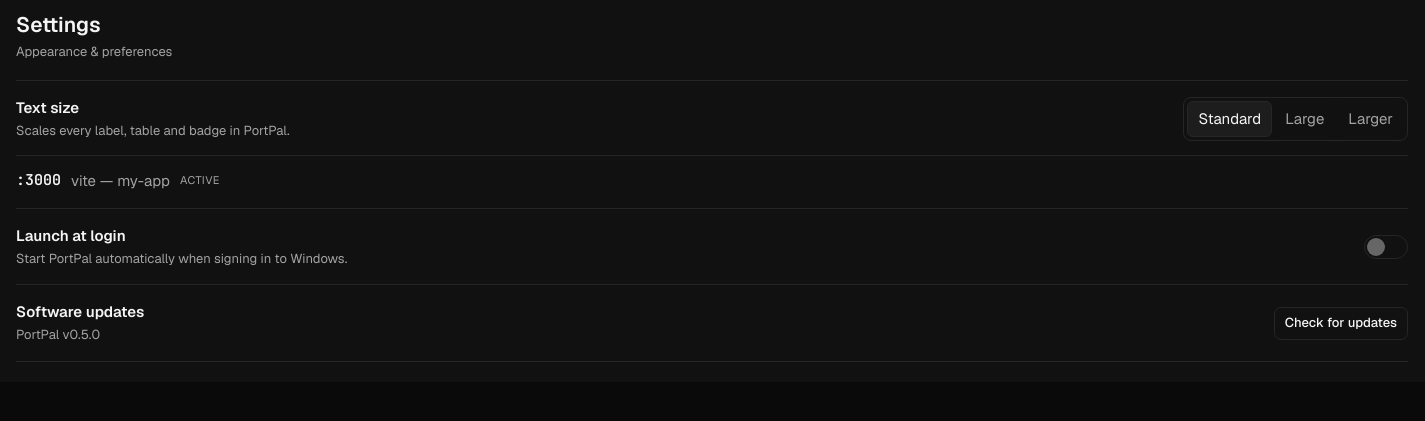
Test: secondary pages › checks for updates and reports when PortPal is up to date
This screenshot has width=1425, height=421.
Expected: the heading "Software updates" is shown, 16,301 -> 144,323
Expected: the text "PortPal v0.5.0" is shown, 16,326 -> 100,343
Click the button "Check for updates": [1341, 323] box 1274,307 -> 1408,340
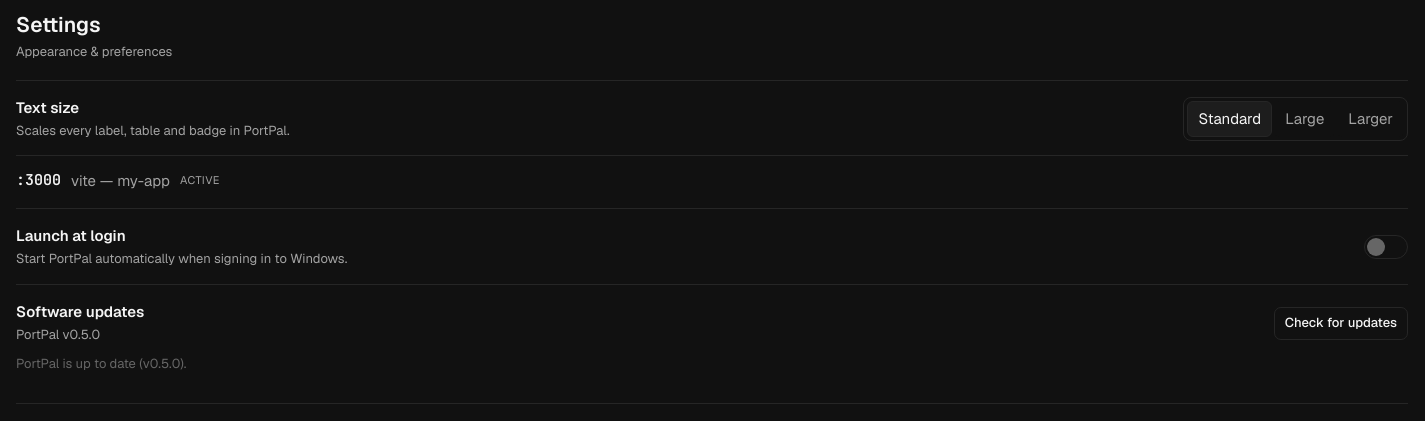
Expected: the text "PortPal is up to date (v0.5.0)." is shown, 16,355 -> 186,372
